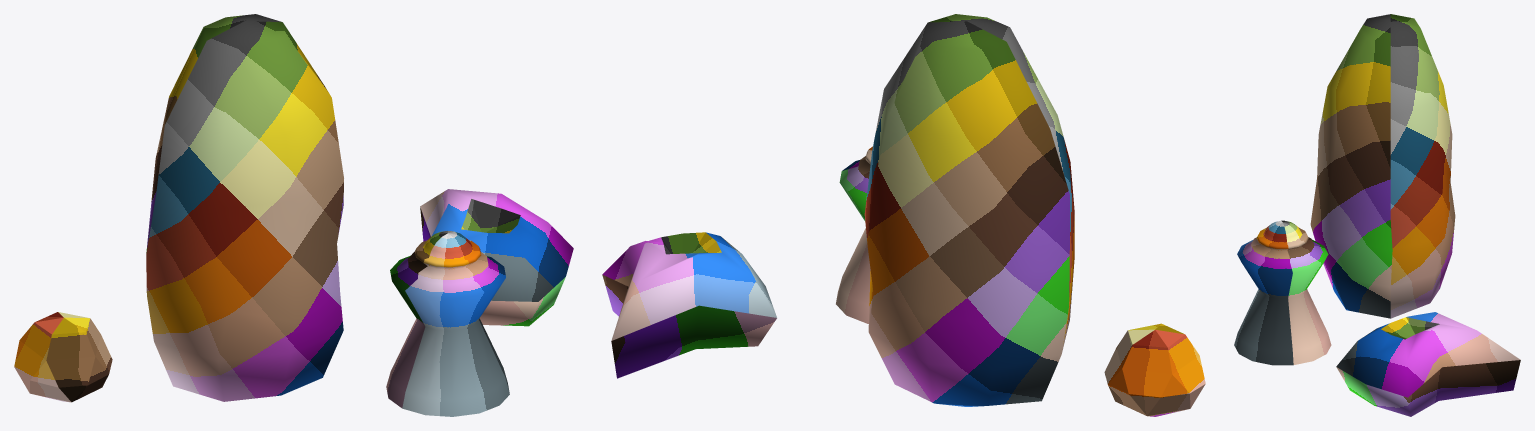
Rendered from TempleAdds.fbx.
3 renders of one model, left to right at view 1: azimuth 30°, elevation 25°; view 2: azimuth 150°, elevation 25°; view 3: azimuth 270°, elevation 25°, orthographic. The views are drawn at different scales.
Parts seen in each view (by area): view 1: Pillar, Pedestal, Arcon, ArconSpinner; view 2: Pillar, Arcon, ArconSpinner, Pedestal; view 3: Pillar, Arcon, Pedestal.
Boxes of the visible parts, x1,y1,x2,y2 form: Pillar: (146,14,343,401); Pedestal: (386,231,509,416); Arcon: (420,189,573,326); ArconSpinner: (14,312,112,402); Pillar: (864,14,1074,406); Arcon: (602,232,776,378); ArconSpinner: (1104,323,1205,416); Pedestal: (836,146,872,323); Pillar: (1310,14,1455,318); Arcon: (1336,312,1520,416); Pedestal: (1234,220,1331,365).
Size of the model in its own units: 1136 by 716 by 644.
